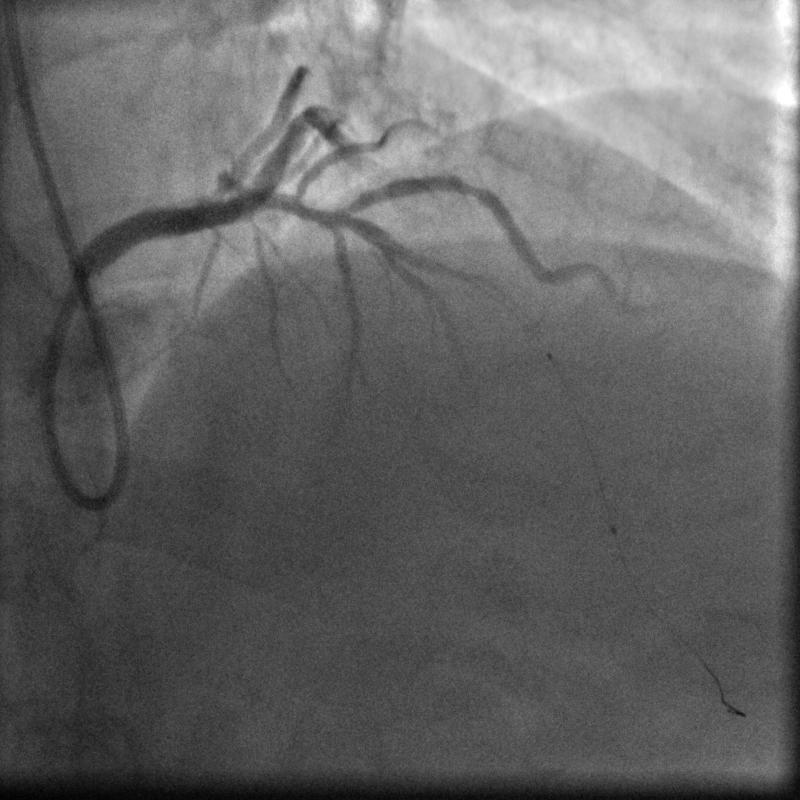Stenosis: (449, 167, 486, 210)
